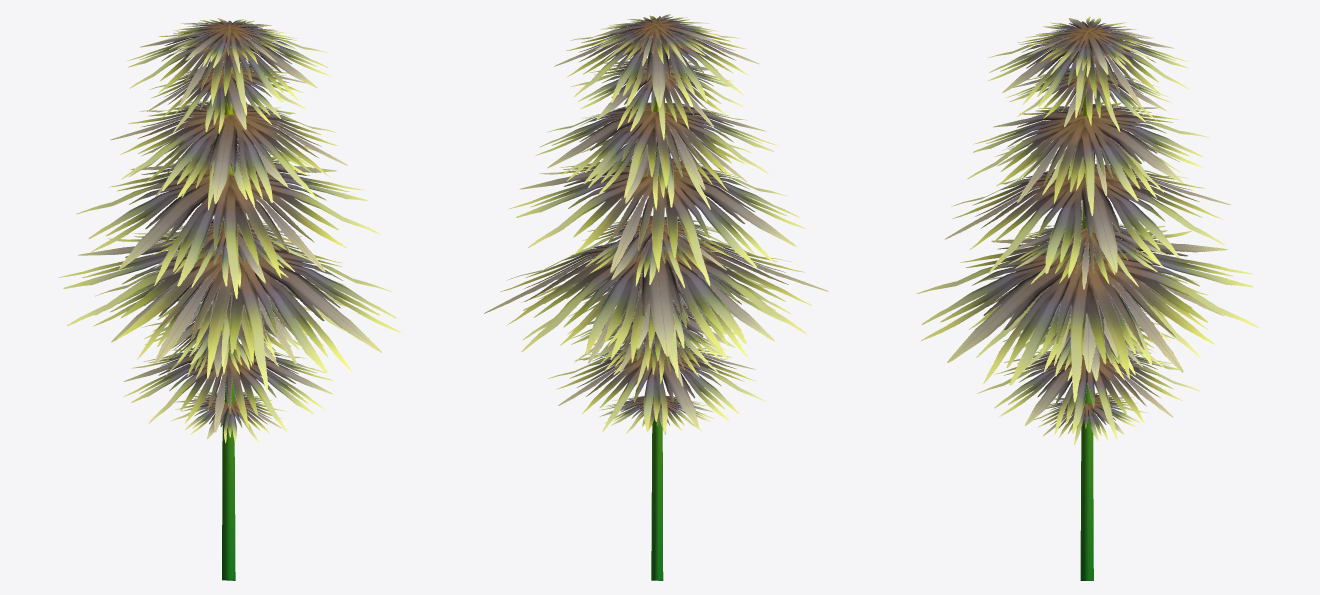
Rendered from short_tree2.fbx.
3 renders of one model, left to right at view 1: azimuth 30°, elevation 25°; view 2: azimuth 150°, elevation 25°; view 3: azimuth 270°, elevation 25°, orthographic.
Parts seen in each view (by area): view 1: polySurface87; view 2: polySurface87; view 3: polySurface87.
Boxes of the visible parts, <box> form: polySurface87: <box>58,18,401,580</box>; polySurface87: <box>484,14,828,580</box>; polySurface87: <box>916,16,1259,580</box>.
Bounding box in the file's own units: 42.62 × 59.64 × 42.83.
1 material, 1 textured.
